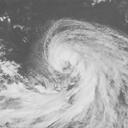cyclone: (39, 20, 121, 115)
